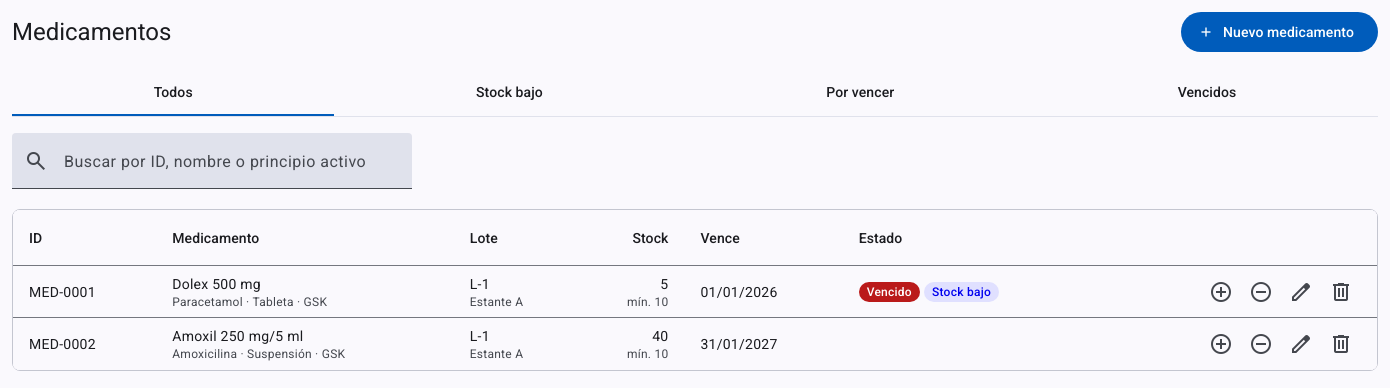
Test: MedicamentosListaComponent › busca en el servidor desde la pestaña Todos
Type "zz" into the search field labelled "Buscar por ID, nombre o principio activo" at point(230, 169), box [64,157,396,181]
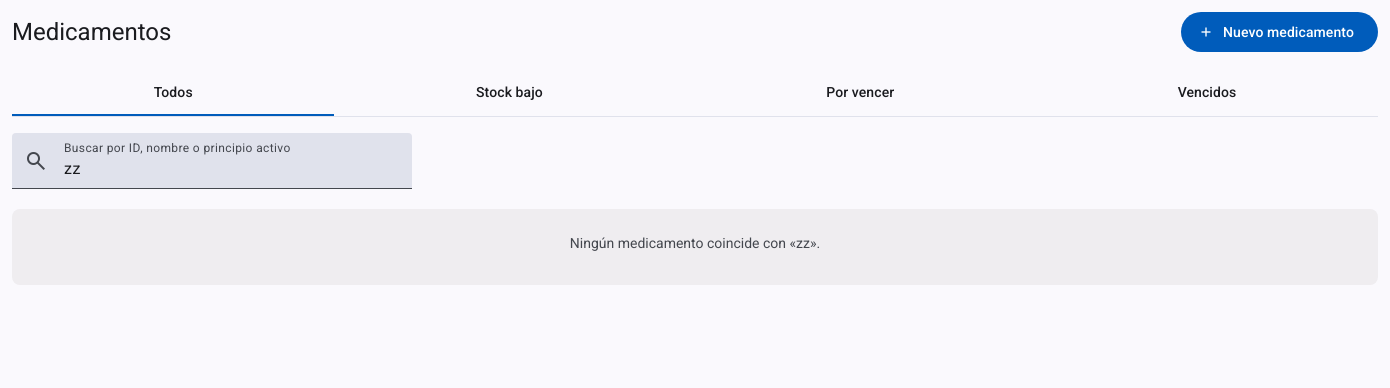
Now the text "Ningún medicamento coincide con «zz»." is shown, box [570,235,820,251]
